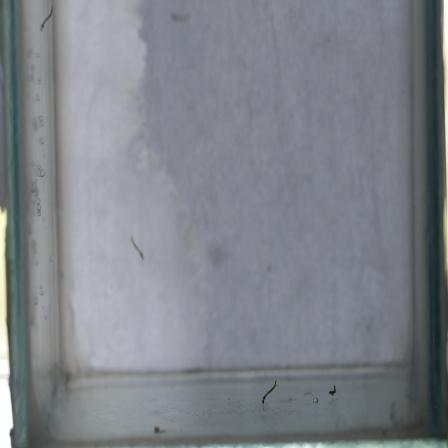Jentik-Nyamuk: (259, 376, 283, 407)
